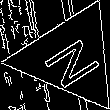N_NE: (34, 27, 106, 89)
